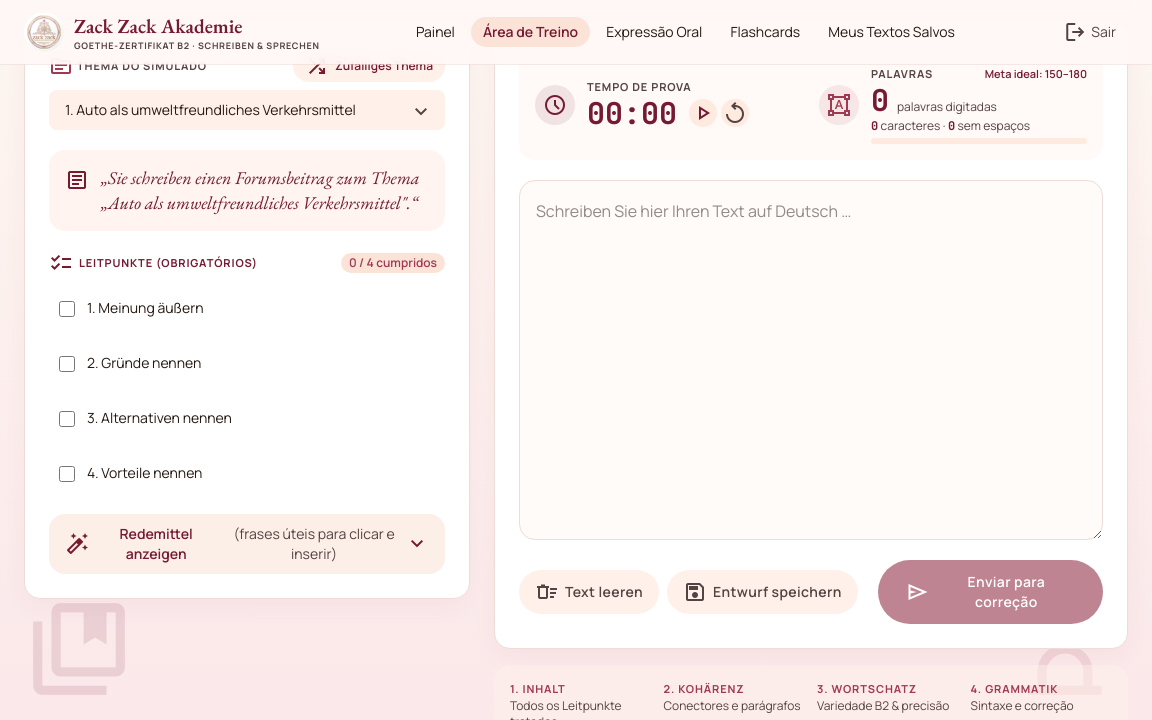
writing practice › submits an attempt after confirmation and records the ticked Leitpunkte
This screenshot has width=1152, height=720.
(page scrolled)
Type "Ich bin der Ansicht, dass Autos praktisch sind." into the text box named "Seu texto" at {"x": 811, "y": 360}, box [519,180,1103,540]
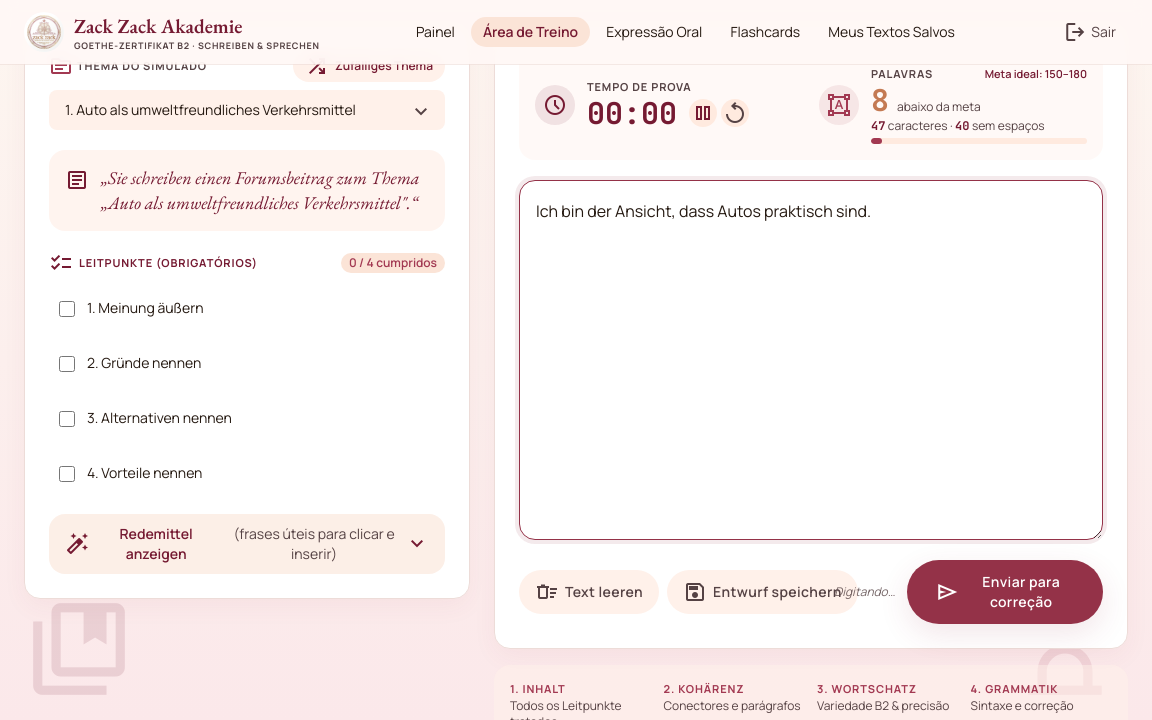
Click the checkbox labelled "1. Meinung äußern" at {"x": 67, "y": 309}, box [59,301,75,317]
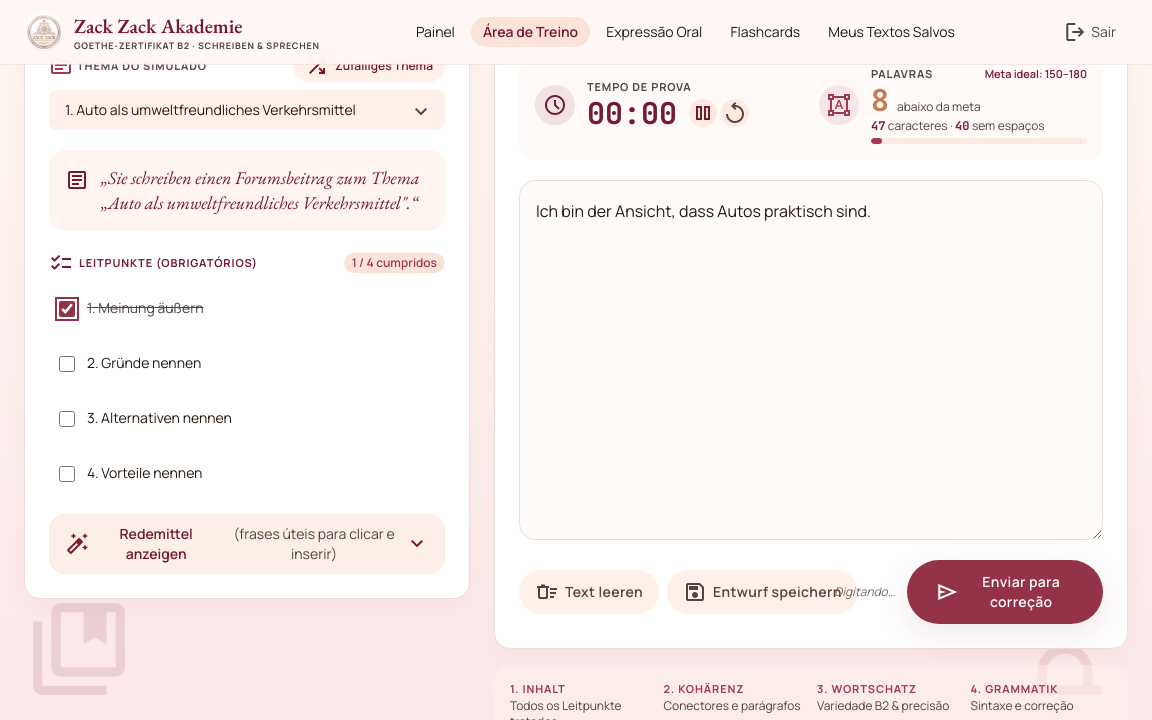
Click the button "Enviar para correção" at {"x": 1005, "y": 592}, box [907,560,1103,624]
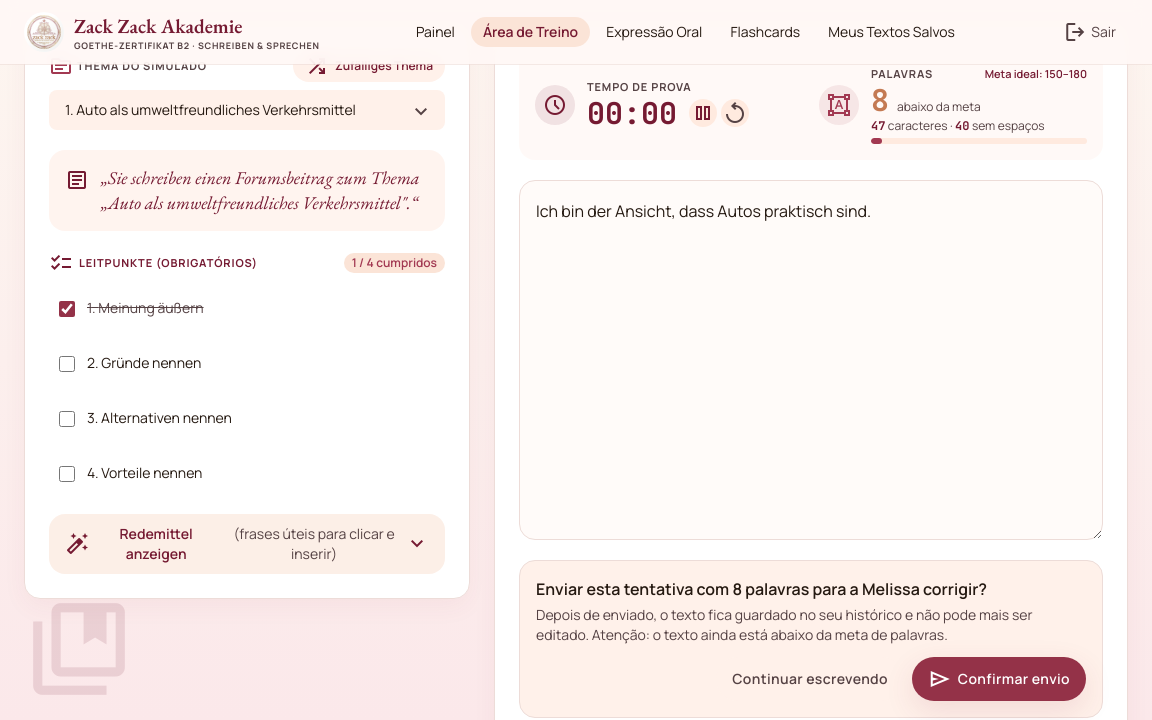
Expected: the dialog shows "8 palavras", [519,560,1103,718]
Click the button "Confirmar envio" at {"x": 999, "y": 679}, box [912,657,1086,701]
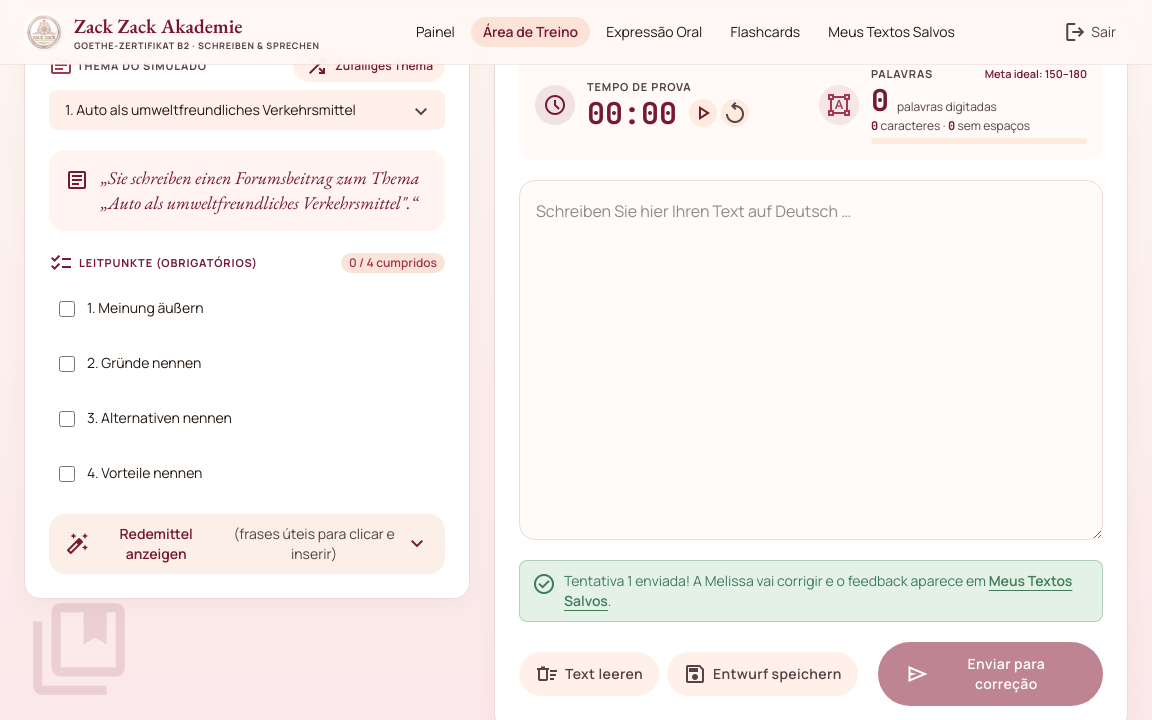
Expected: the text "Tentativa 1 enviada!" is shown, [564,571,1090,611]
Expected: the text box named "Seu texto" is empty, [519,180,1103,540]
